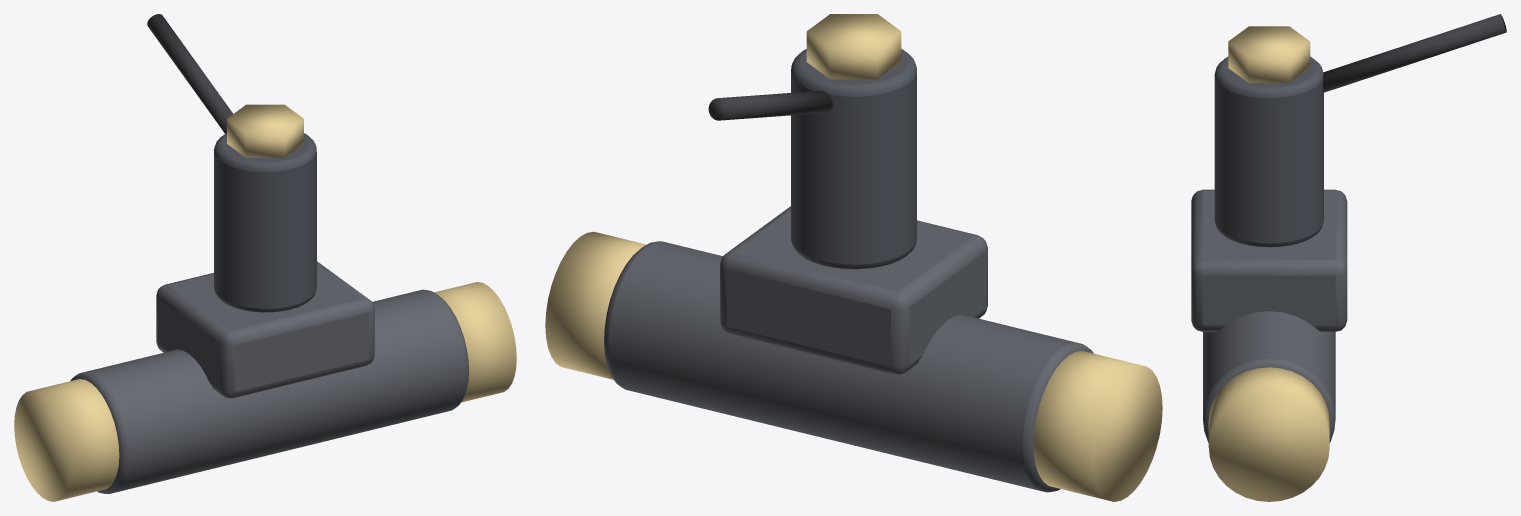
File: valvula_riego.glb
3 renders of one model, left to right at view 1: azimuth 30°, elevation 25°; view 2: azimuth 150°, elevation 25°; view 3: azimuth 270°, elevation 25°, orthographic. The views are drawn at different scales.
Visible parts, largest first — view 1: Valve_Body, Valve_Bonnet, Solenoid_Coil, Thread_Left, Thread_Right, Solenoid_Nut, Cable; view 2: Valve_Body, Valve_Bonnet, Solenoid_Coil, Thread_Left, Thread_Right, Solenoid_Nut, Cable; view 3: Solenoid_Coil, Valve_Bonnet, Thread_Right, Valve_Body, Solenoid_Nut, Cable.
Boxes of the visible parts, x1,y1,x2,y2 form: Valve_Body: (70, 289, 468, 493); Valve_Bonnet: (156, 261, 374, 398); Solenoid_Coil: (214, 133, 316, 312); Thread_Left: (14, 379, 119, 501); Thread_Right: (434, 282, 516, 402); Solenoid_Nut: (227, 104, 303, 157); Cable: (147, 14, 232, 133); Valve_Body: (604, 241, 1093, 492); Valve_Bonnet: (720, 206, 987, 374); Solenoid_Coil: (791, 49, 916, 269); Thread_Left: (1033, 351, 1162, 501); Thread_Right: (545, 231, 646, 379); Solenoid_Nut: (806, 14, 901, 79); Cable: (708, 90, 832, 120); Solenoid_Coil: (1214, 56, 1323, 247); Valve_Bonnet: (1191, 189, 1347, 331); Thread_Right: (1208, 367, 1329, 501); Valve_Body: (1203, 311, 1335, 442); Solenoid_Nut: (1228, 26, 1310, 82); Cable: (1323, 14, 1506, 92).
Size of the model in its own units: 0.14 by 0.1065 by 0.0808.
